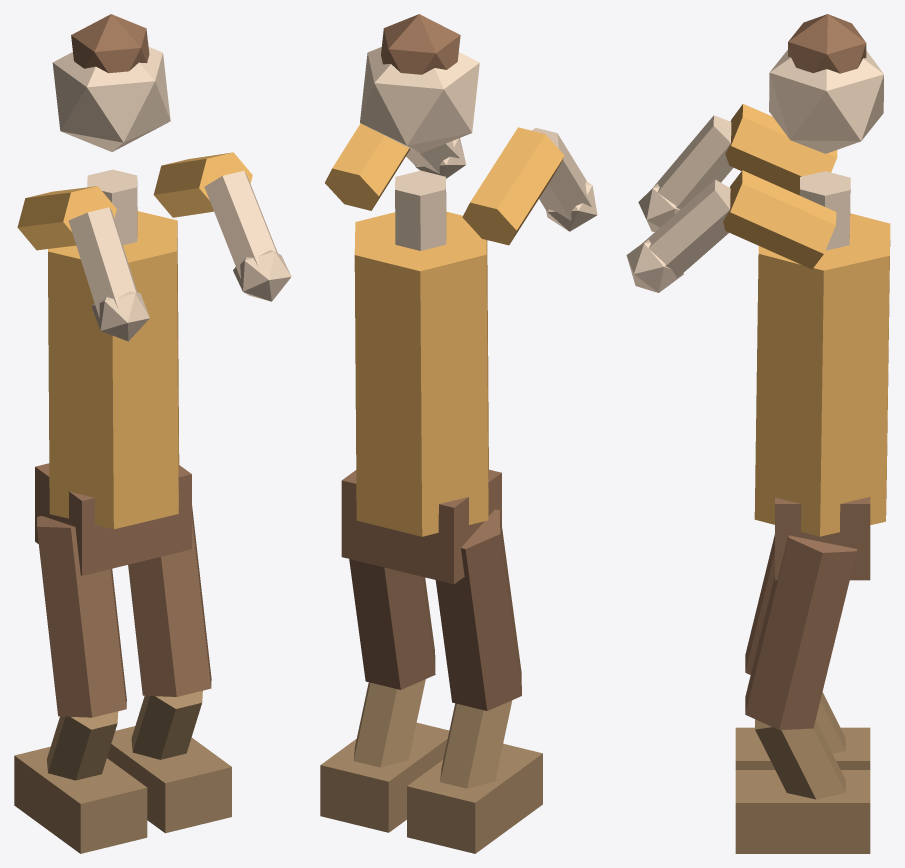
File: pose_idle_08.glb
3 views of the same model, side by side, from view 1: azimuth 30°, elevation 25°; view 2: azimuth 150°, elevation 25°; view 3: azimuth 270°, elevation 25° (orthographic). The views are drawn at different scales.
Parts seen in each view (by area): view 1: pose; view 2: pose; view 3: pose.
Boxes of the visible parts, x1,y1,x2,y2 form: pose: [14, 14, 291, 853]; pose: [320, 14, 597, 853]; pose: [626, 14, 890, 853].
Bounding box in the file's own units: 0.3969 × 1.58 × 0.47.
